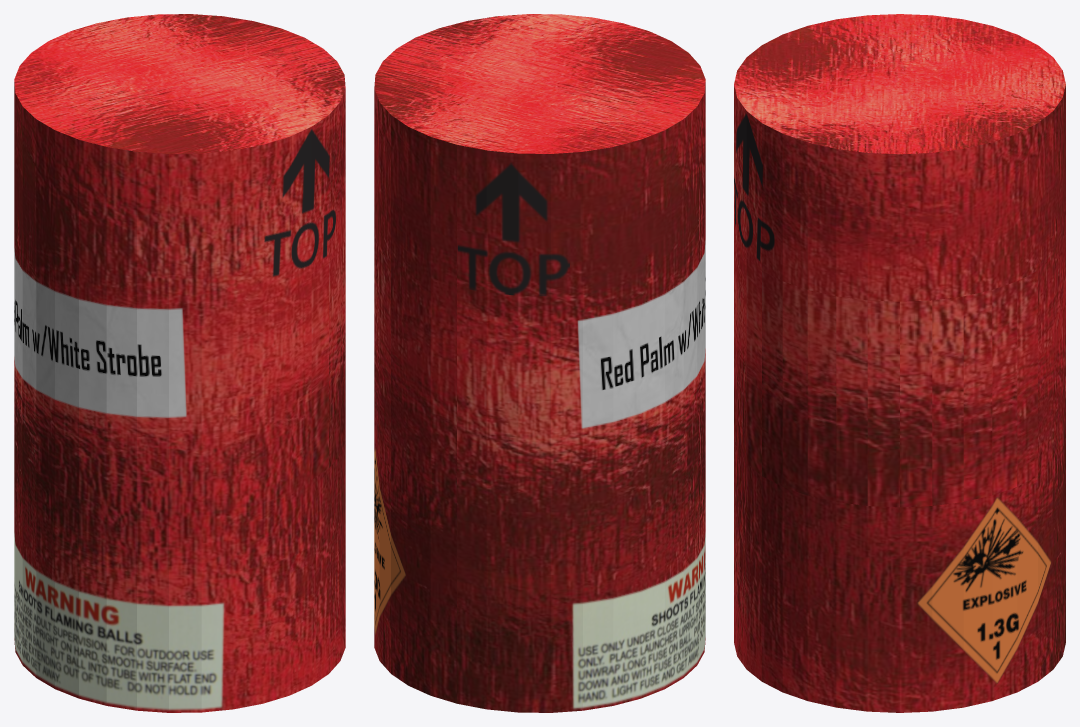
File: Shell Canister 3 Inch RedPalmWhiteStrobe.fbx
The picture shows the model from 3 angles, left to right: view 1: azimuth 30°, elevation 25°; view 2: azimuth 150°, elevation 25°; view 3: azimuth 270°, elevation 25°; orthographic projection.
Parts seen in each view (by area): view 1: Cylinder; view 2: Cylinder; view 3: Cylinder.
Part boxes in pixels (left/top/right/bottom): Cylinder: left=14, top=14, right=345, bottom=712; Cylinder: left=374, top=14, right=705, bottom=712; Cylinder: left=734, top=14, right=1065, bottom=712.
Size of the model in its own units: 14 by 26 by 14.
